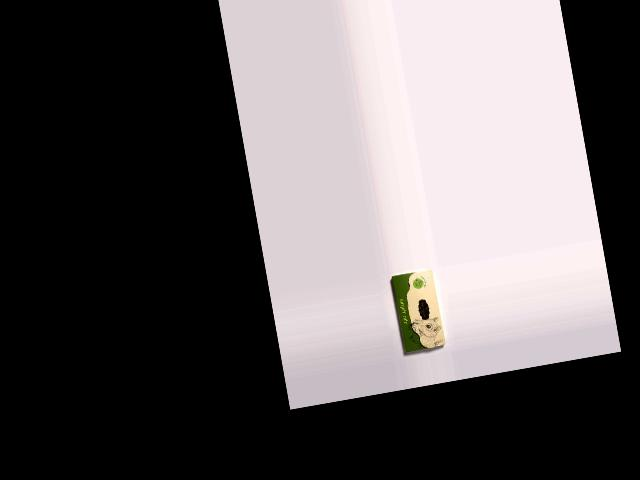chocolate: (390, 268, 446, 353)
